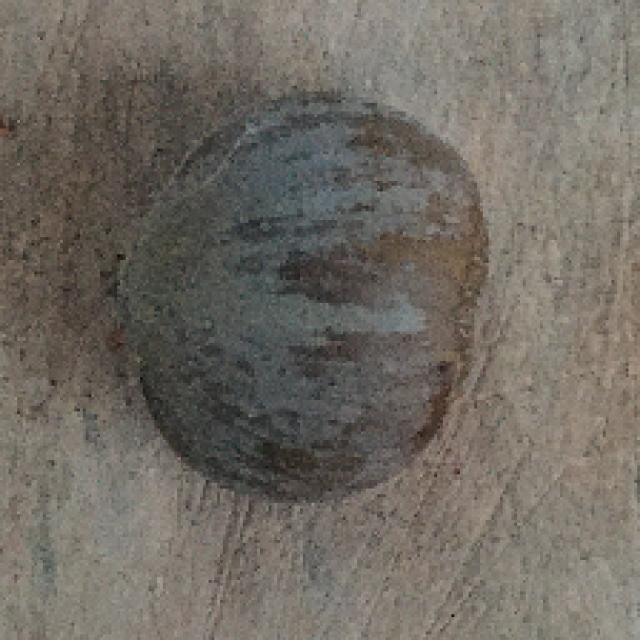damagedHazelnut: (110, 92, 490, 507)
